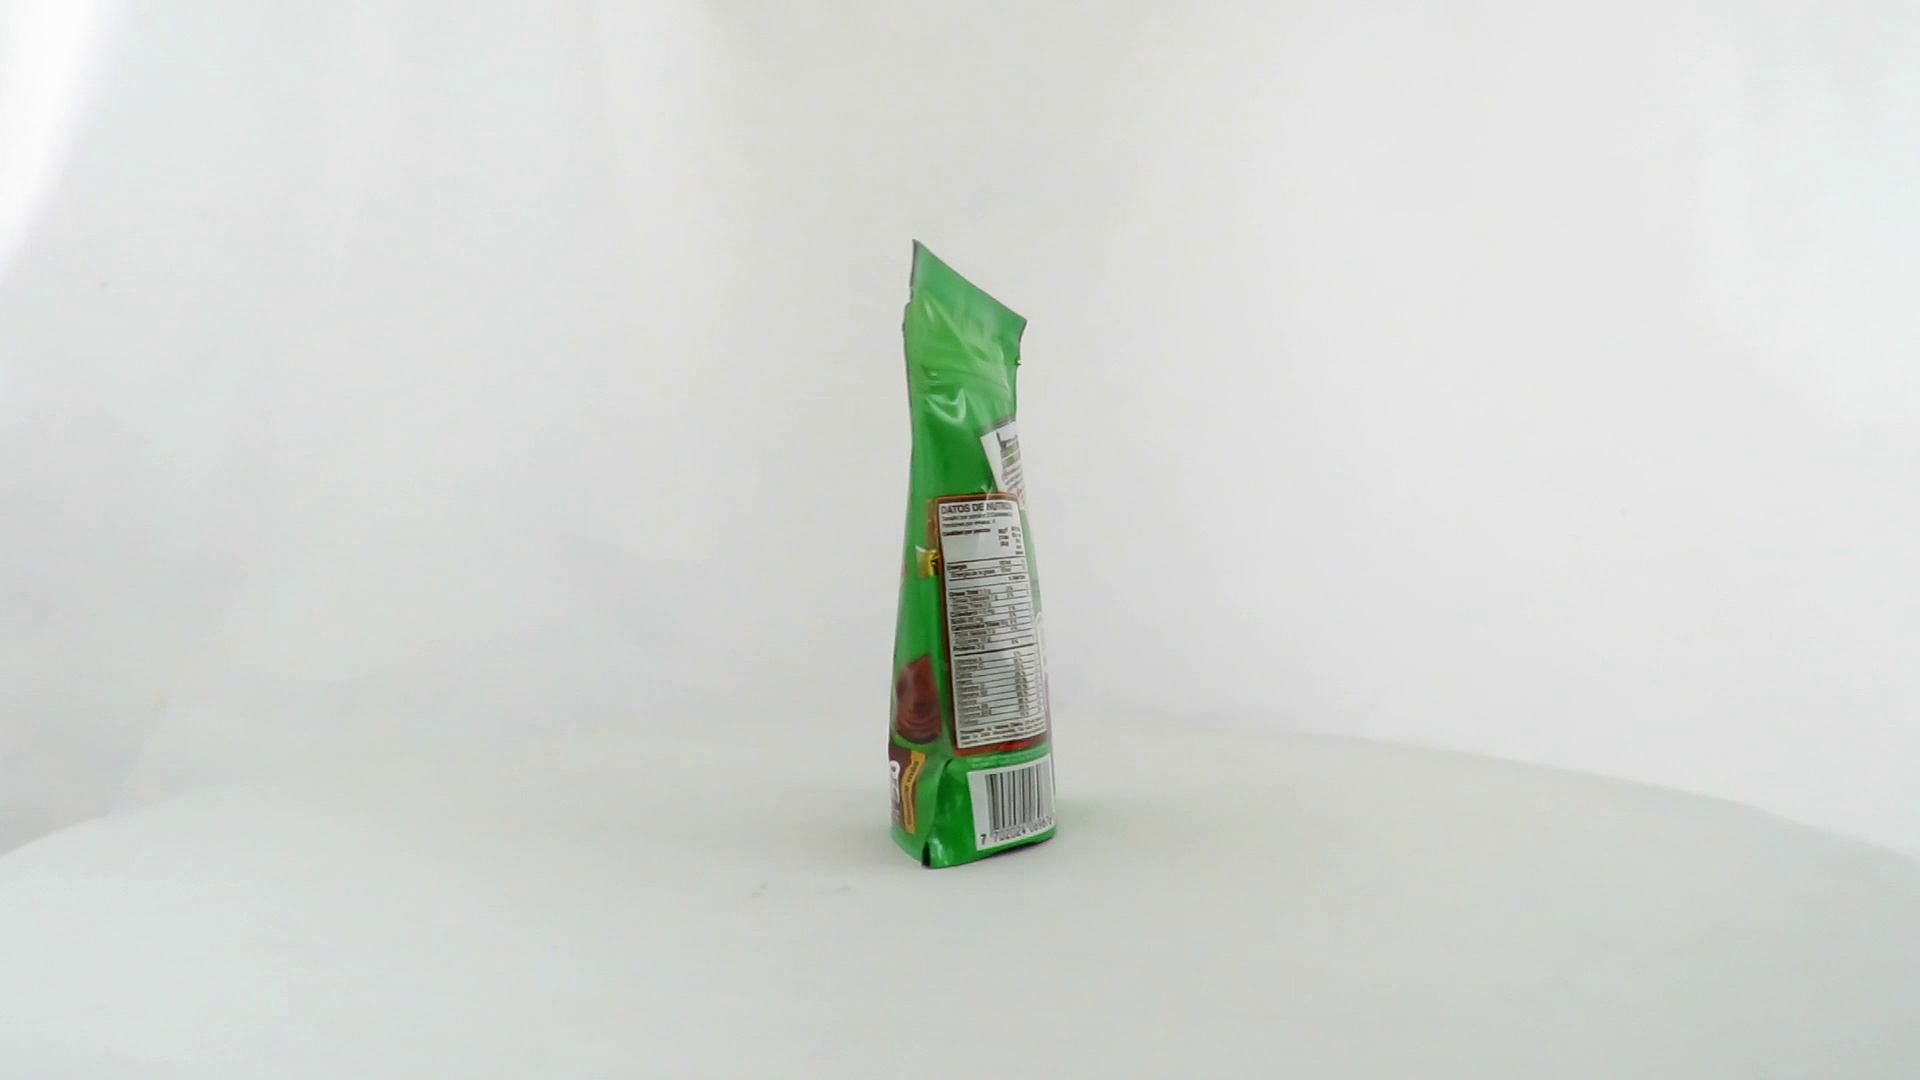COL0170203DYP10000: (884, 233, 1064, 876)
